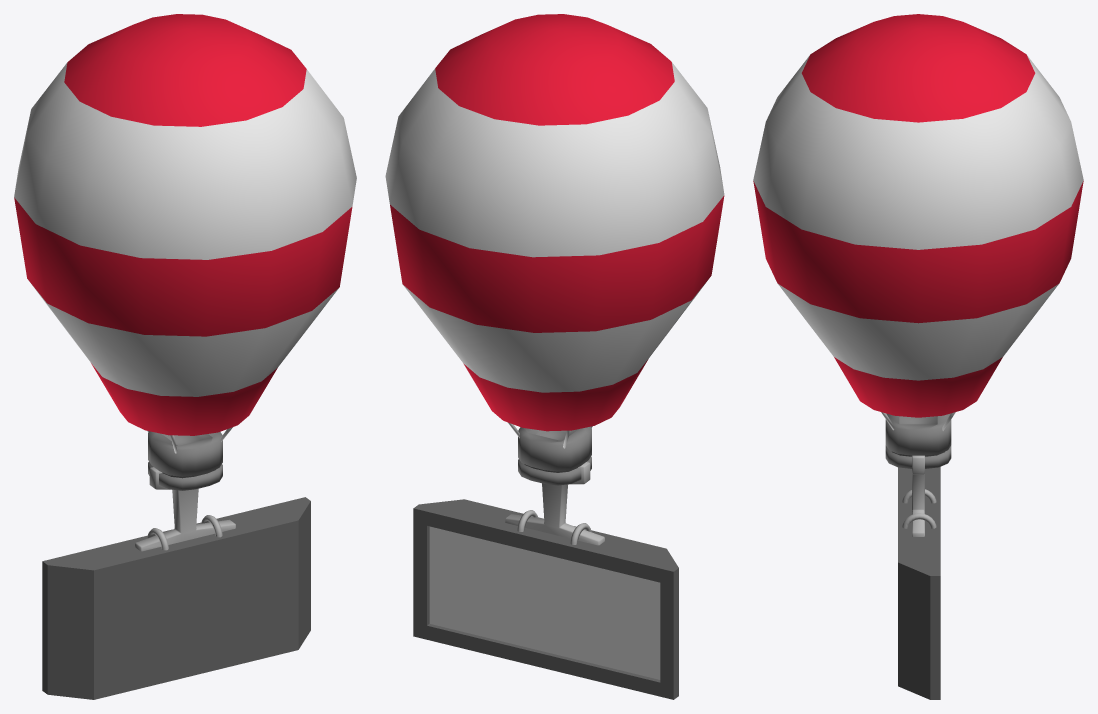
Rendered from balloon_panel.fbx.
3 renders of one model, left to right at view 1: azimuth 30°, elevation 25°; view 2: azimuth 150°, elevation 25°; view 3: azimuth 270°, elevation 25°, orthographic. The views are drawn at different scales.
Visible parts, largest first — view 1: balloon, screen_XZRot, attach_to_balloon_Zrot; view 2: balloon, screen_XZRot, attach_to_balloon_Zrot; view 3: balloon, screen_XZRot, attach_to_balloon_Zrot.
Part boxes in pixels (x1=…): balloon: x1=14, y1=14, x2=356, y2=490; screen_XZRot: x1=42, y1=497, x2=310, y2=699; attach_to_balloon_Zrot: x1=135, y1=467, x2=235, y2=551; balloon: x1=385, y1=14, x2=724, y2=485; screen_XZRot: x1=413, y1=499, x2=678, y2=699; attach_to_balloon_Zrot: x1=505, y1=462, x2=604, y2=545; balloon: x1=753, y1=14, x2=1083, y2=468; screen_XZRot: x1=898, y1=467, x2=940, y2=699; attach_to_balloon_Zrot: x1=912, y1=455, x2=924, y2=536.
Size of the model in its own units: 33.58 by 33.58 by 68.3.
